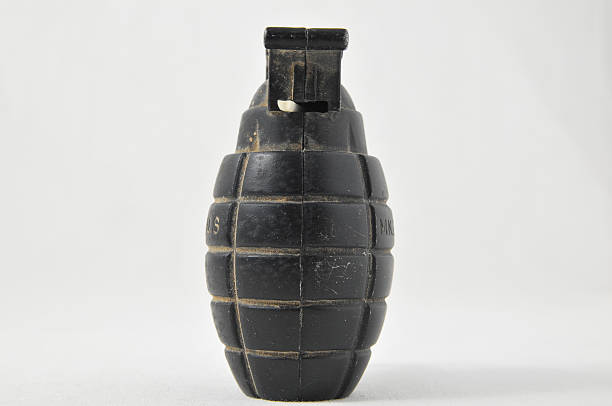e1: (198, 27, 396, 395)
